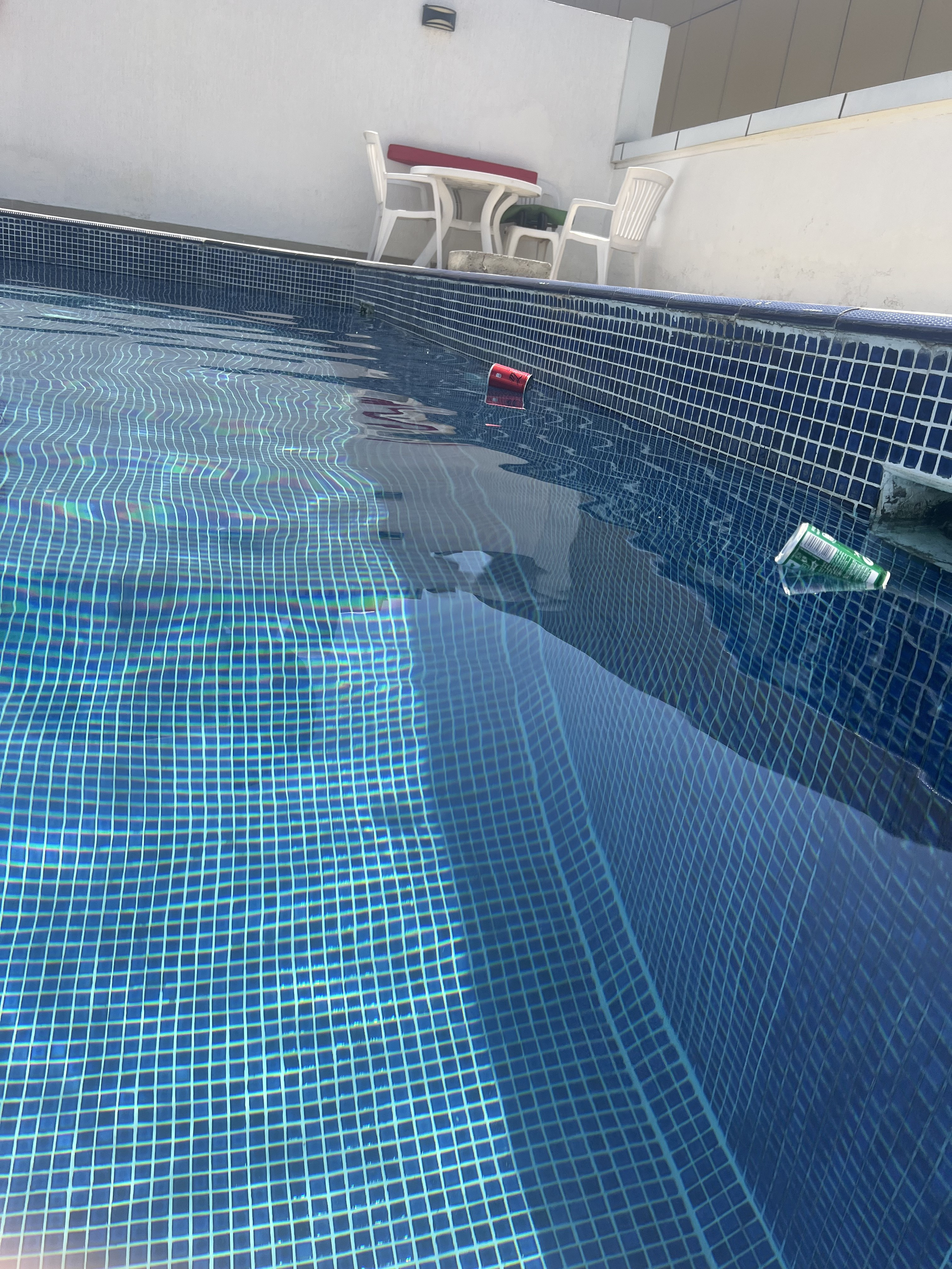debris: (767, 498, 894, 643), (485, 353, 537, 416)
